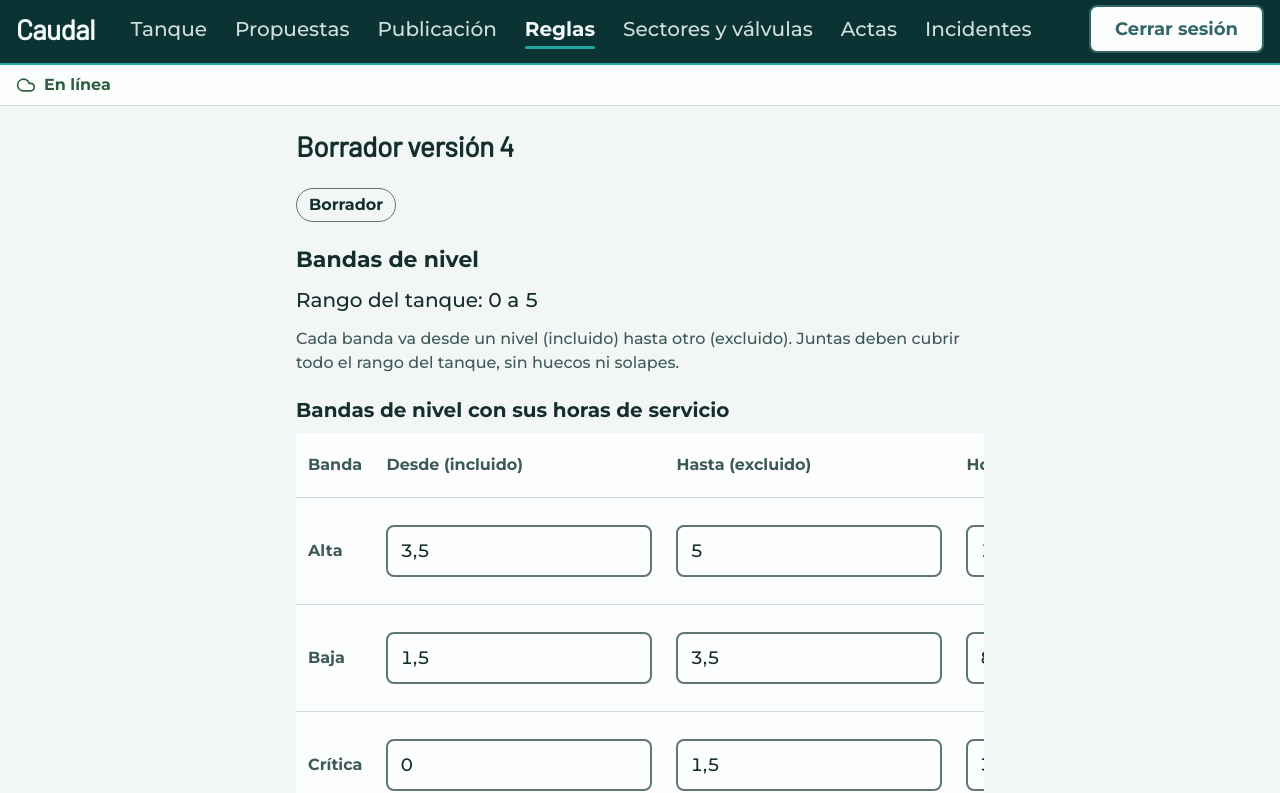
Scenario: rules draft flow (BOARD_MEMBER) › saves a draft with an edited level but has no way to activate it
Replace the text in the 5th field with "3,4" at coordinates (810, 658), box [676,632,942,684]
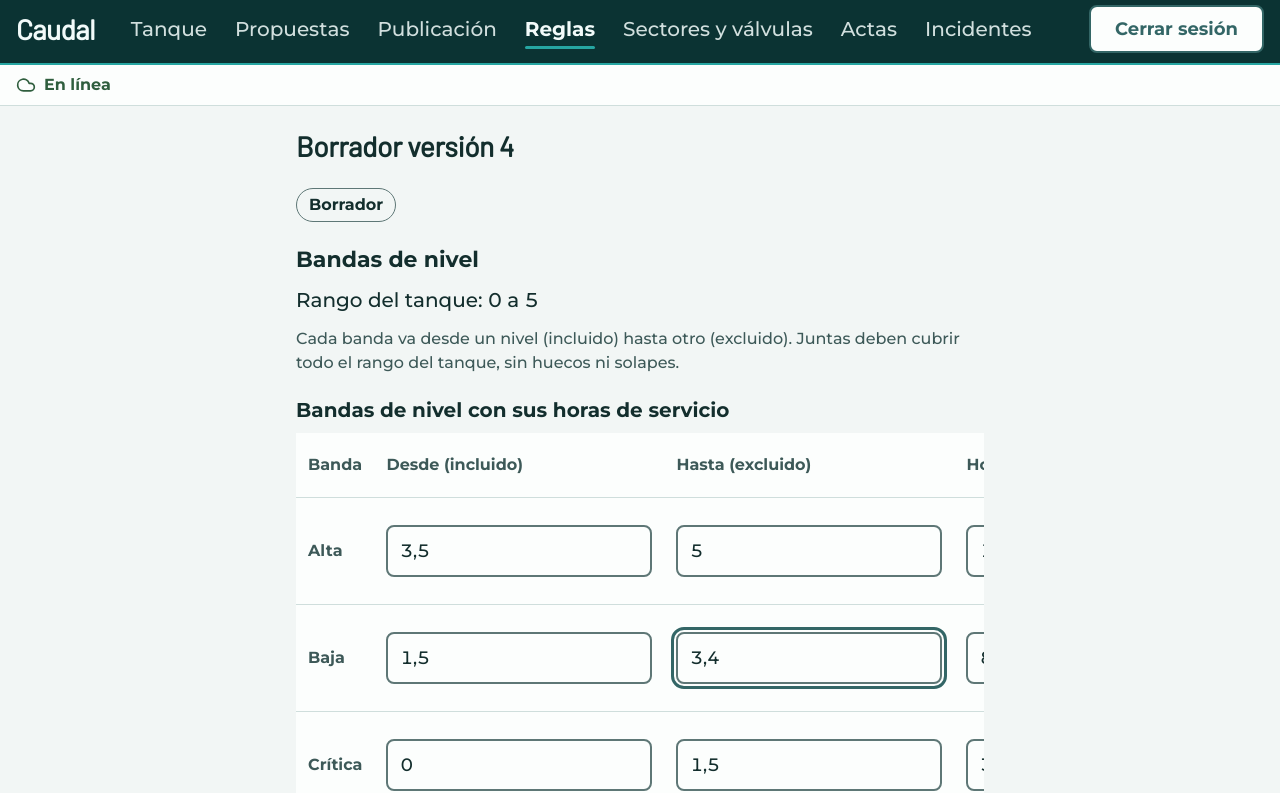
Replace the text in the 1st field with "3,4" at coordinates (520, 551), box [386,525,652,577]
(page scrolled)
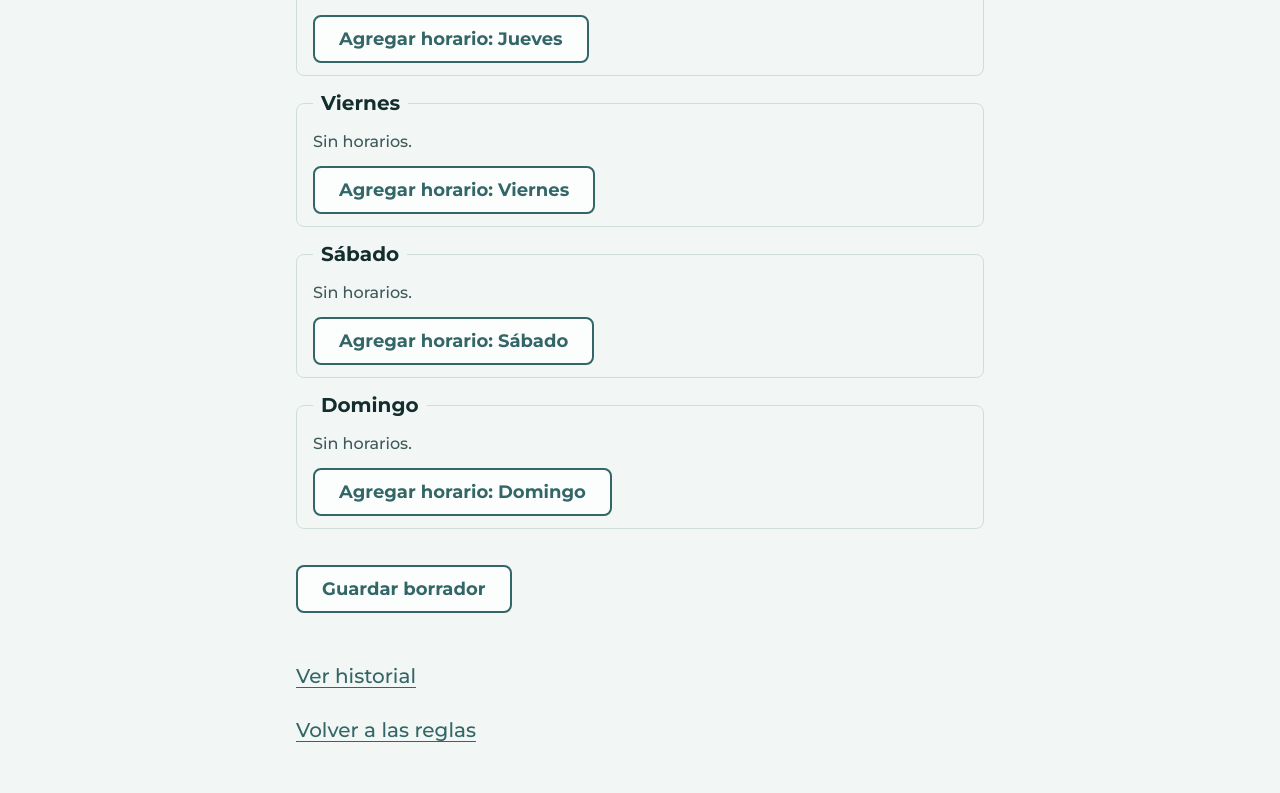
Click the button "Guardar borrador" at coordinates (404, 590), box [296,566,512,614]
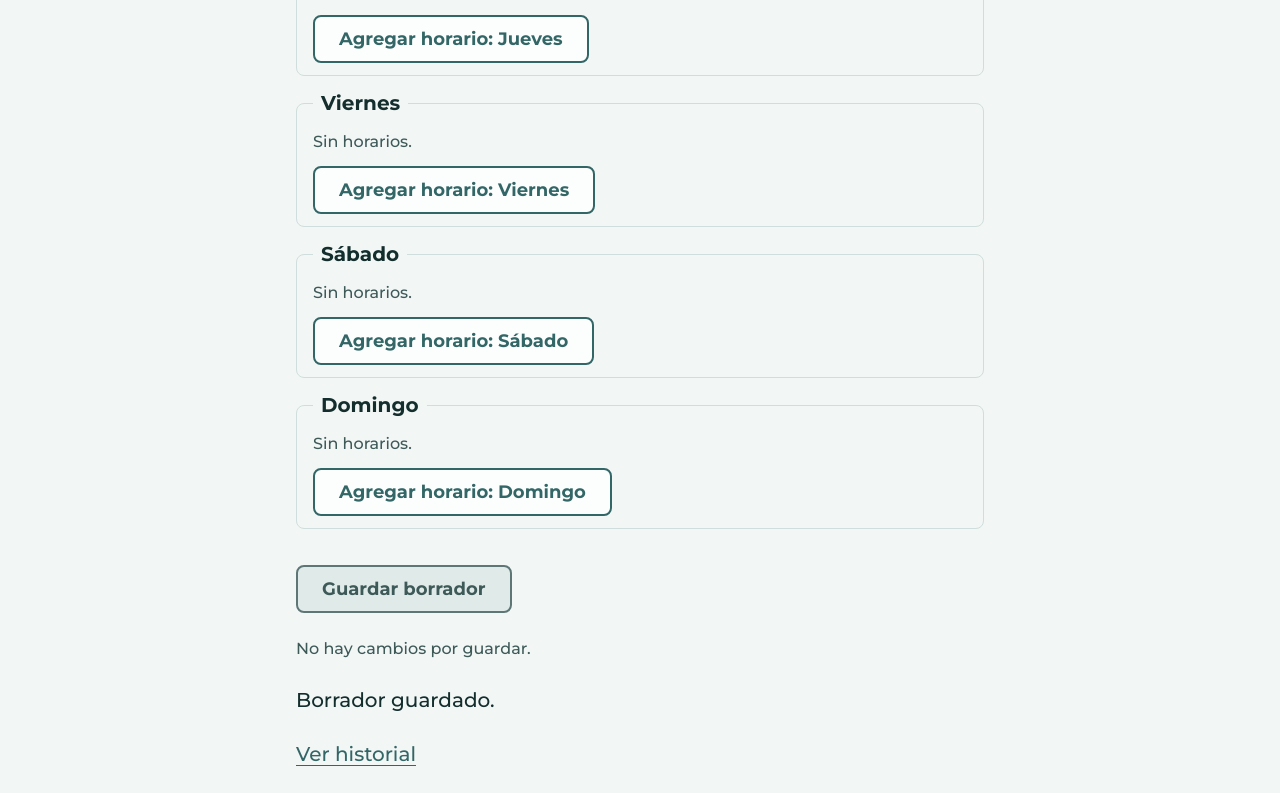
Check: the text "Borrador guardado." is shown, box [296,688,495,712]
